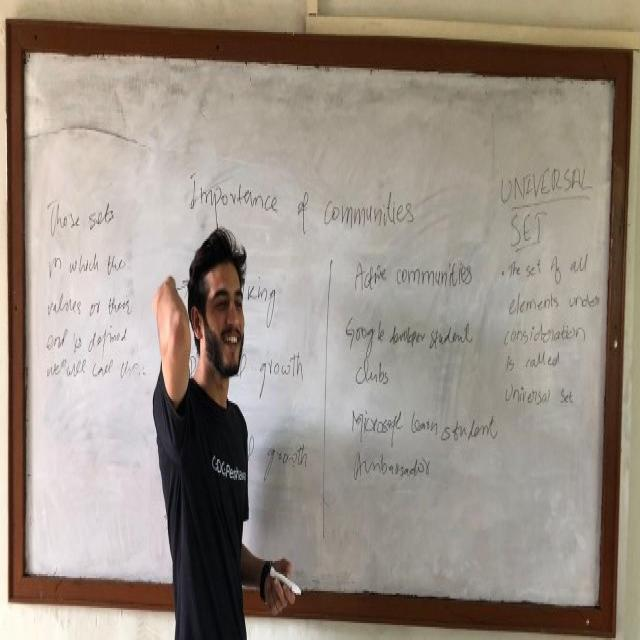Instructor: (149, 187, 261, 640)
White-board: (13, 33, 627, 629)
